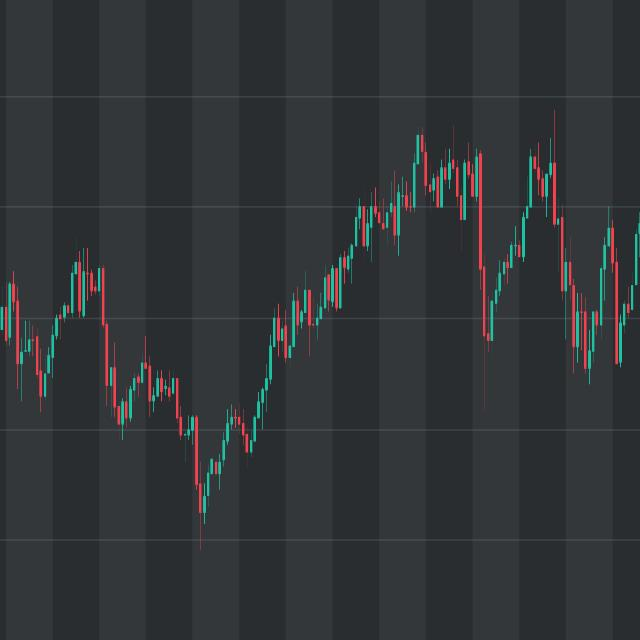Channel-up: (193, 62, 475, 565)
Double-Top: (520, 117, 565, 250)
